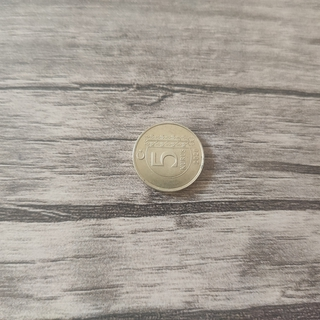5KURUS: (131, 119, 205, 192)
